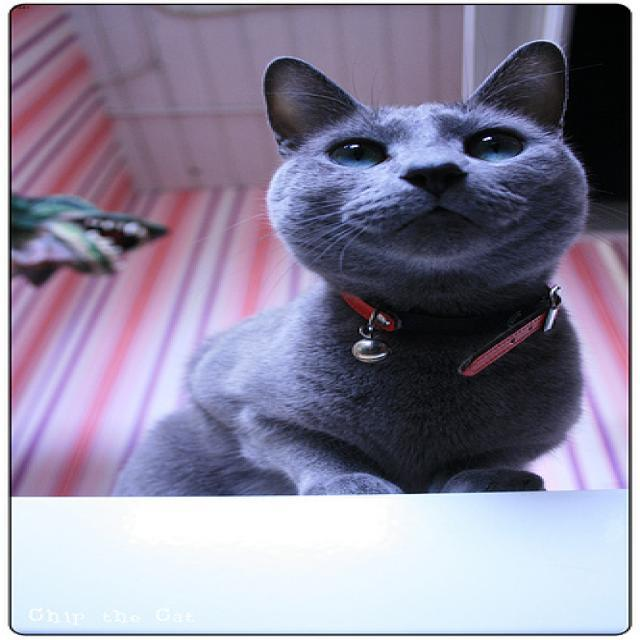Russian_Blue: (260, 37, 565, 259)
